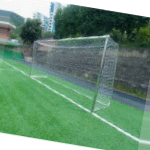goals: (29, 34, 121, 115)
